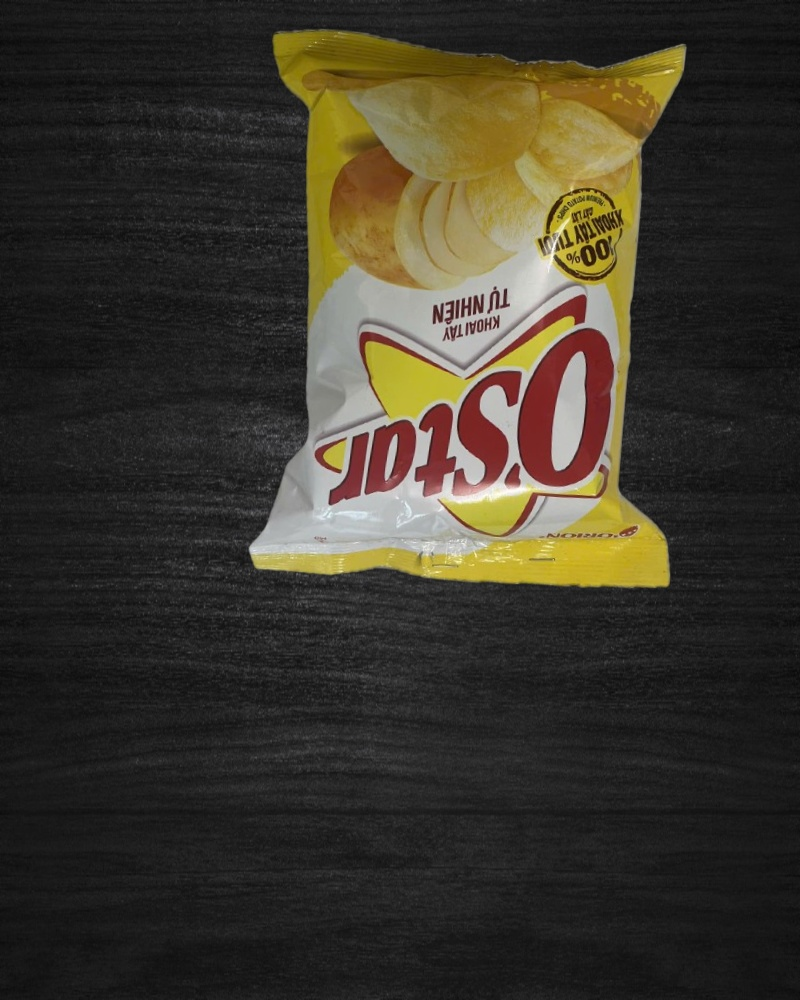Snack cua: (232, 15, 715, 599)
